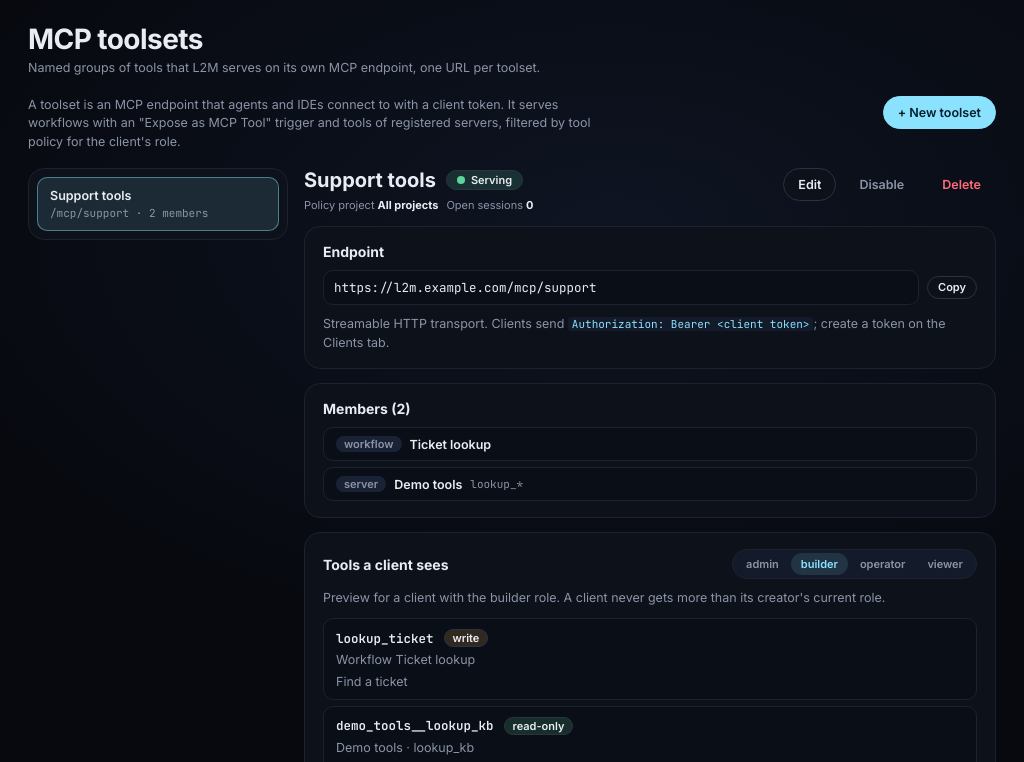
Scenario: MCP gateway views › lists toolsets with their endpoint, copies it, and previews tools per role
Expected: the text with test id "toolset-endpoint" reads "https://l2m.example.com/mcp/support", [334,279,596,296]
Expected: the text "lookup_*" is shown, [470,477,523,491]
Click the button with aria-label "Copy endpoint URL" at (952, 287), box [927,276,977,299]
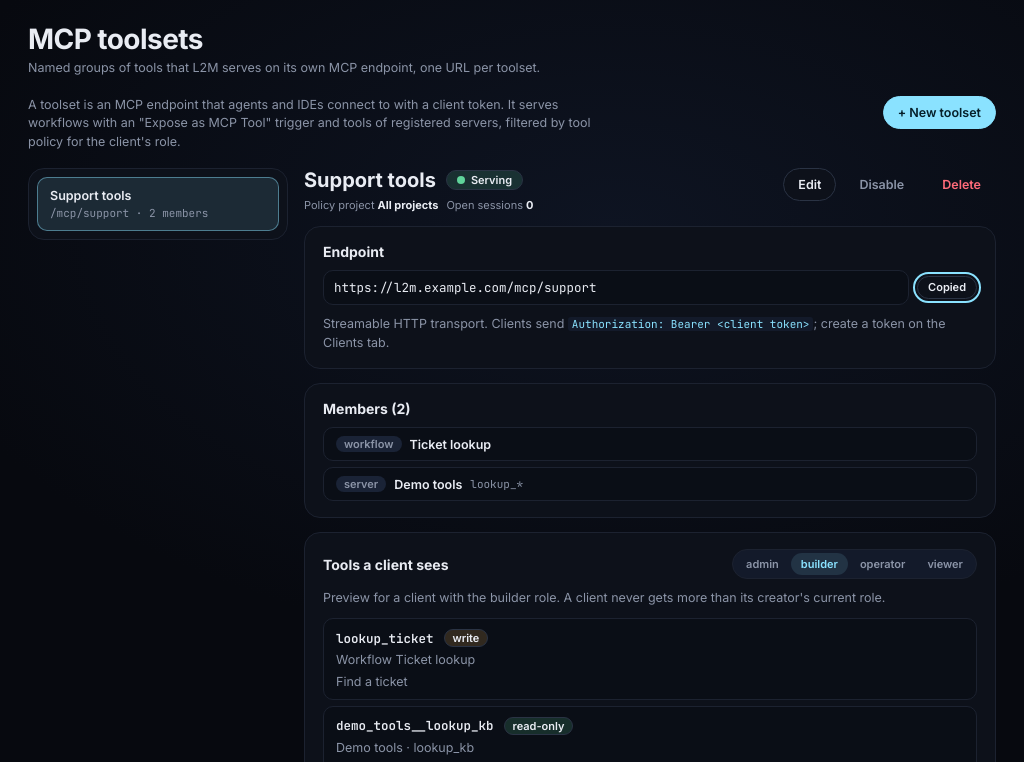
Expected: the text "demo_tools__lookup_kb" is shown, [336,717,494,734]
Click the tab "viewer" at (945, 564), box [917,553,973,575]
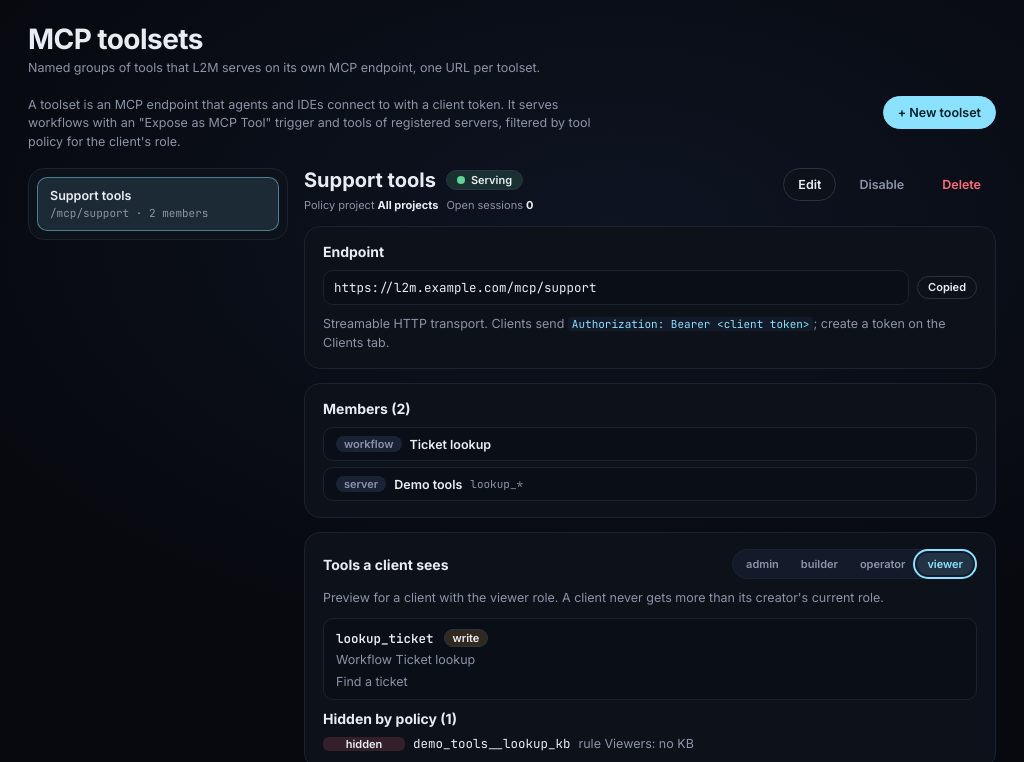
Expected: the text "demo_tools__lookup_kb" is shown, [413,735,570,752]
Now the text "rule Viewers: no KB" is shown, box [578,736,694,751]
